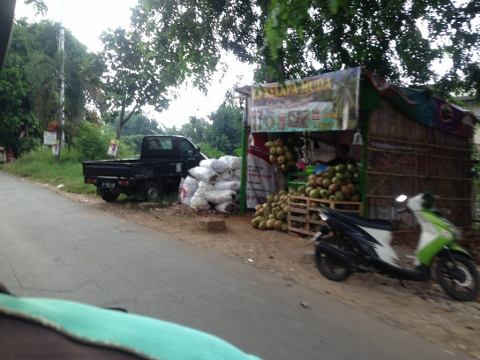mobil: (82, 135, 208, 201)
